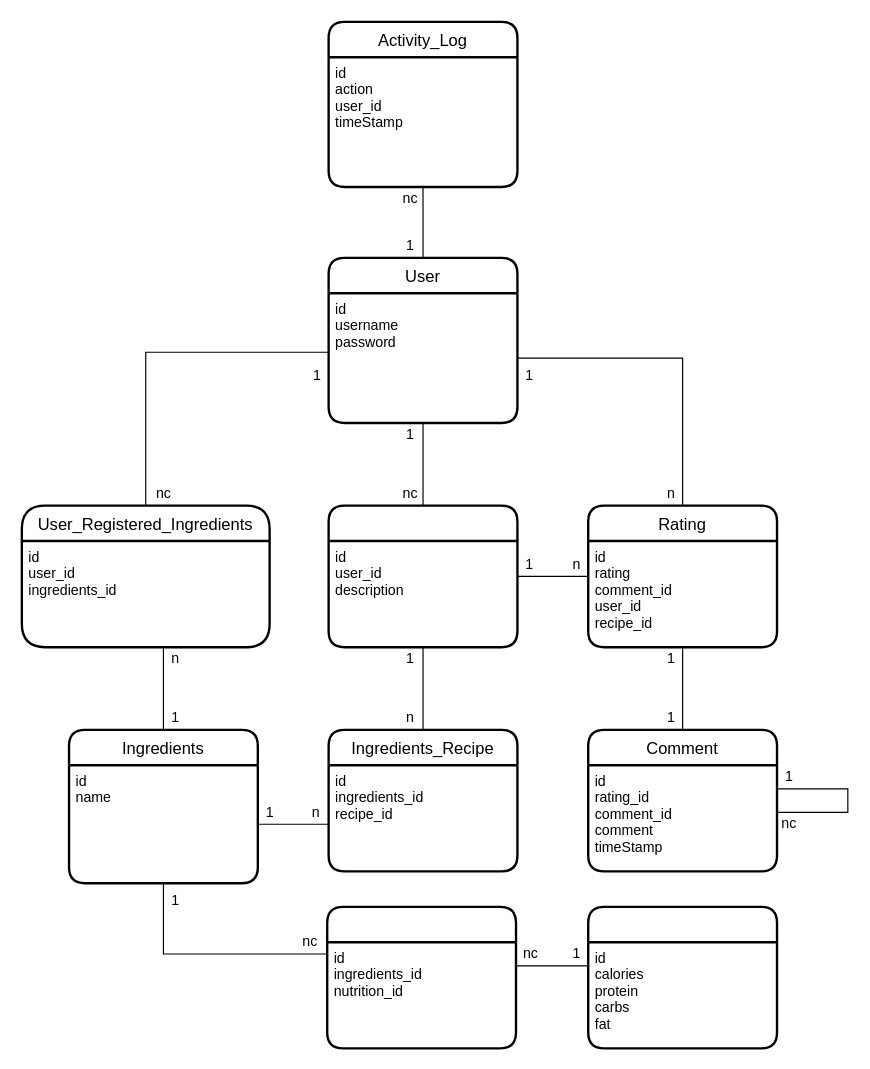
This 870x1069 diagram has some shape labels left out. The shapes that lost their labels are listed below. From the top down, each one's box as (x1, y1, x2, y2) in pixels, then its label:
(327, 504, 518, 648): Recipe
(325, 905, 517, 1049): Ingredients_Nutrition
(586, 905, 778, 1049): Nutrition
